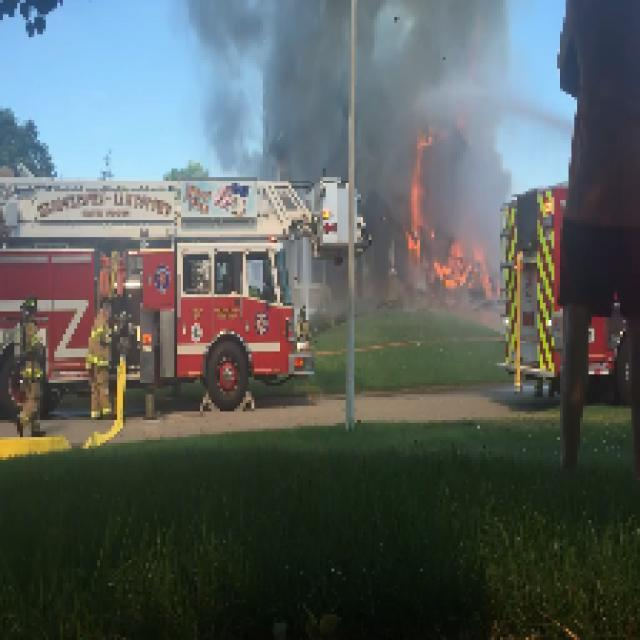Fire: (408, 126, 501, 306)
Smoke: (183, 2, 508, 314)
